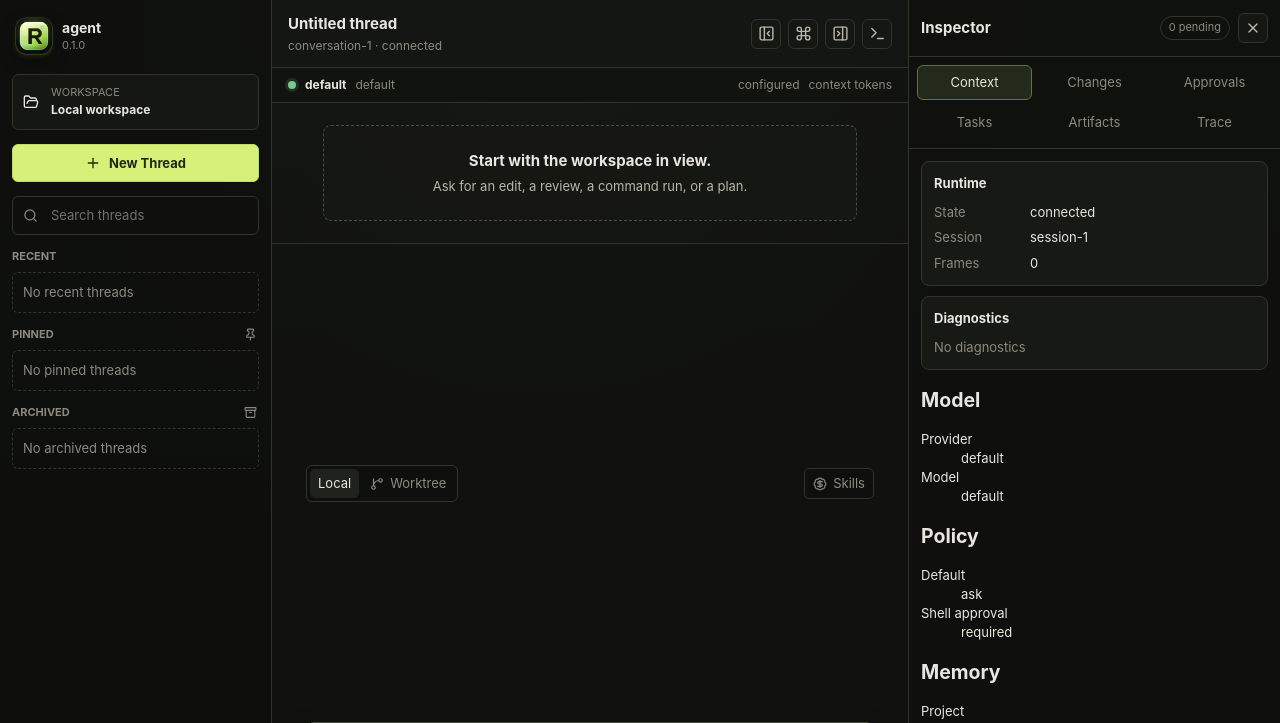
it: team workflow UI › shows team workflow panel in the tasks inspector tab
Click the tab "Tasks": click(974, 122) [917, 105, 1032, 140]
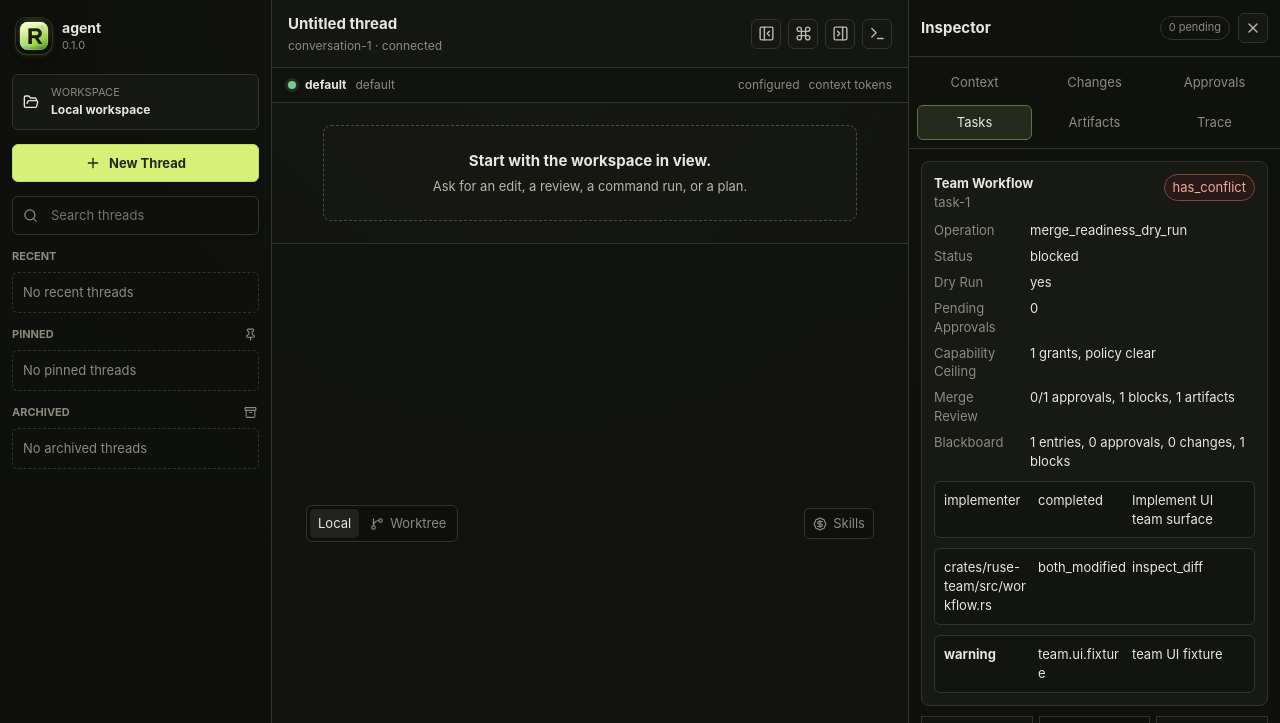
Expected: the element labelled "Team Workflow" is shown, [921, 161, 1268, 706]
Expected: the text "has_conflict" is shown, [1164, 174, 1255, 200]
